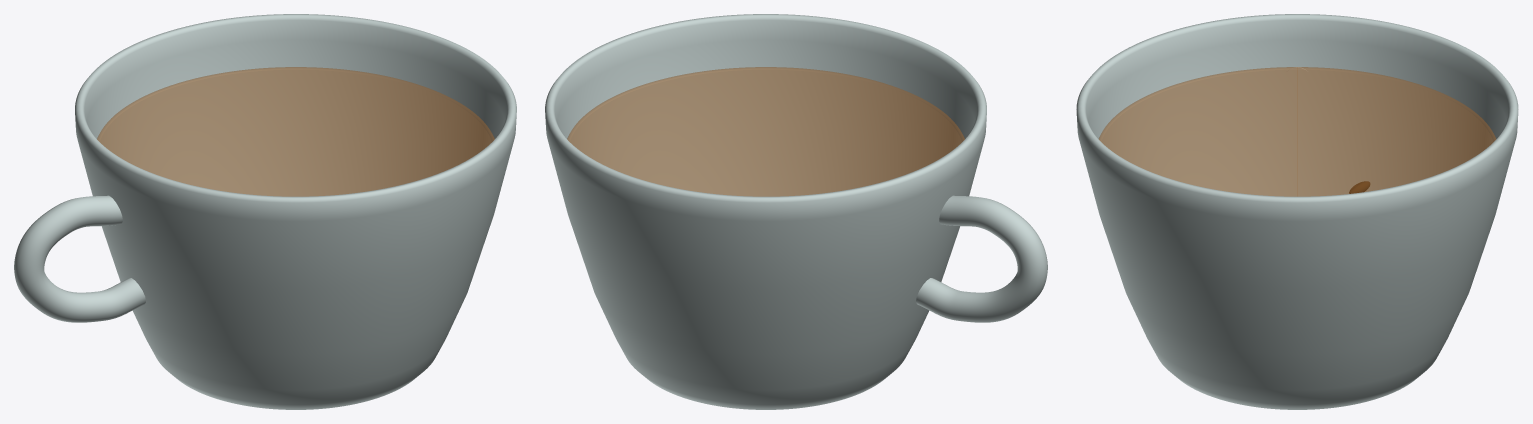
The model's file is shenyang-tea.glb.
3 renders of one model, left to right at view 1: azimuth 30°, elevation 25°; view 2: azimuth 150°, elevation 25°; view 3: azimuth 270°, elevation 25°, orthographic.
Visible parts, largest first — view 1: shenyang-tea; view 2: shenyang-tea; view 3: shenyang-tea.
Boxes of the visible parts, x1,y1,x2,y2 form: shenyang-tea: (14,14,516,409); shenyang-tea: (545,14,1047,409); shenyang-tea: (1076,14,1518,409).
Bounding box in the file's own units: 0.1212 × 0.0616 × 0.0985.
